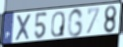5: (34, 11, 49, 41)
7: (87, 7, 101, 36)
8: (103, 5, 117, 35)
G: (66, 7, 84, 38)
Q: (50, 10, 66, 38)
X: (15, 13, 32, 42)
